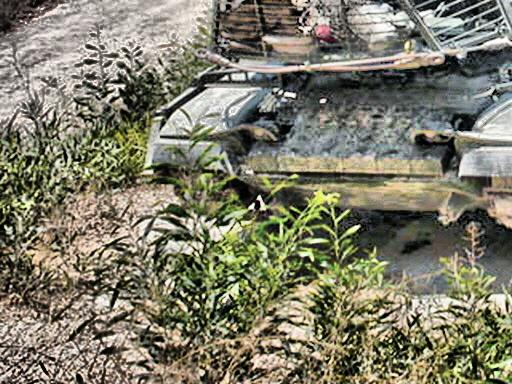tanks: (149, 1, 512, 229)
